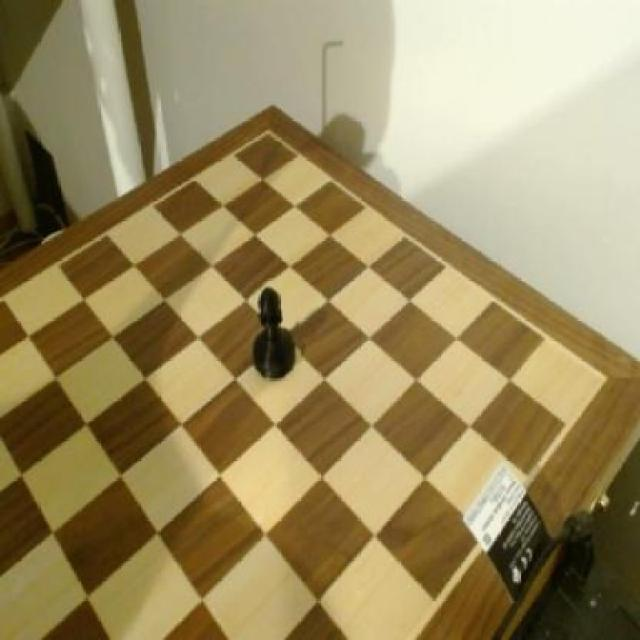black-knight: (249, 278, 300, 381)
